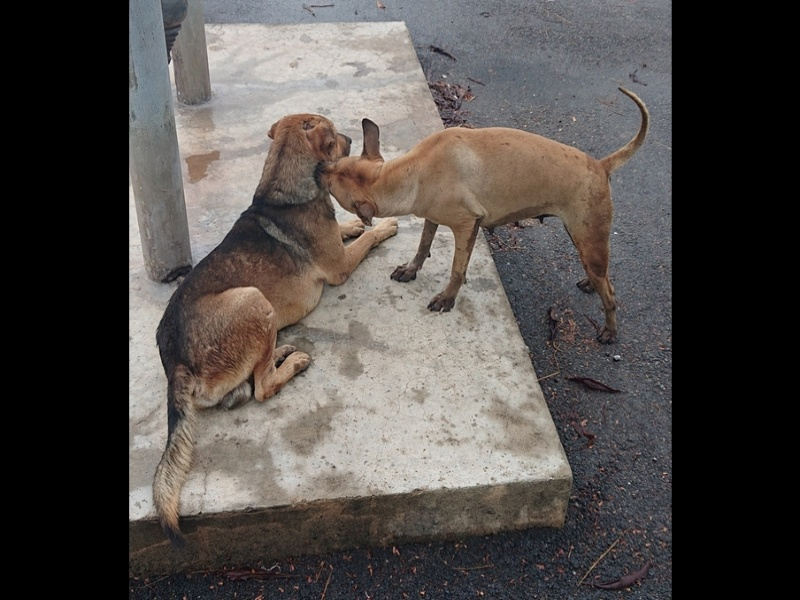dog: (155, 102, 400, 545), (313, 69, 653, 348)
